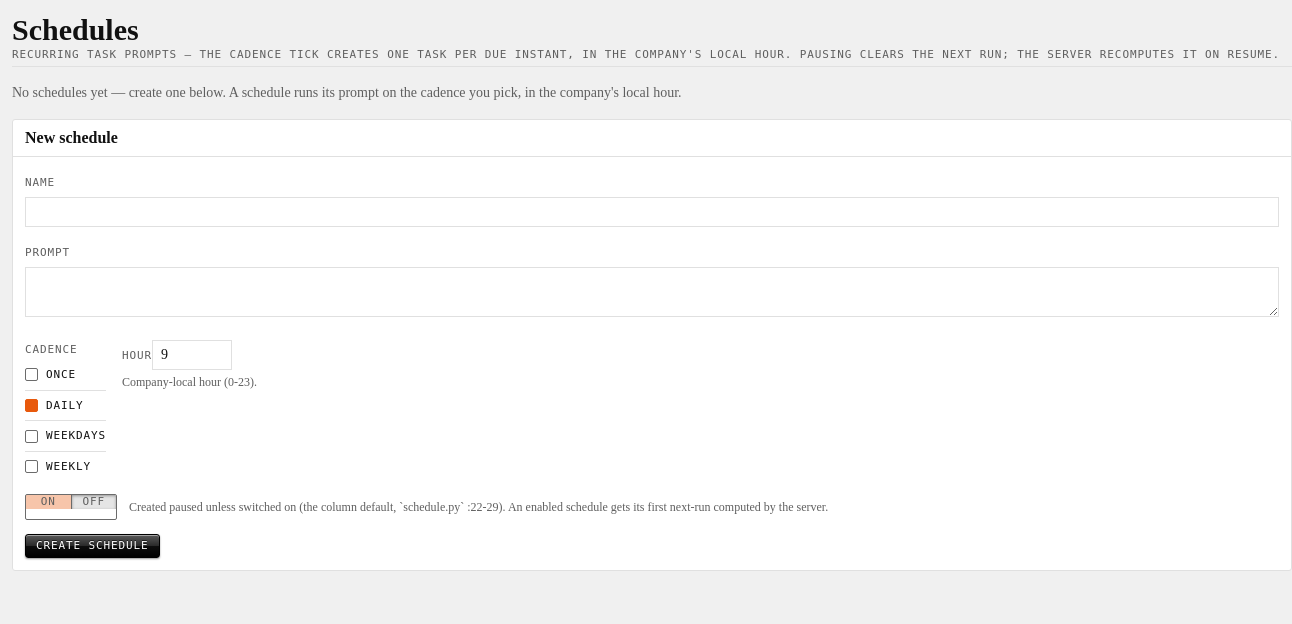
Test: SchedulesPage — create (POST /schedules) › renders a create refusal as ApiError.display — no invented schedule
Expected: the text with test id "schedules-empty" is shown, [12, 85, 682, 100]
In the field labelled "Name": (652, 212) [25, 197, 1279, 227], type "Bad hour"
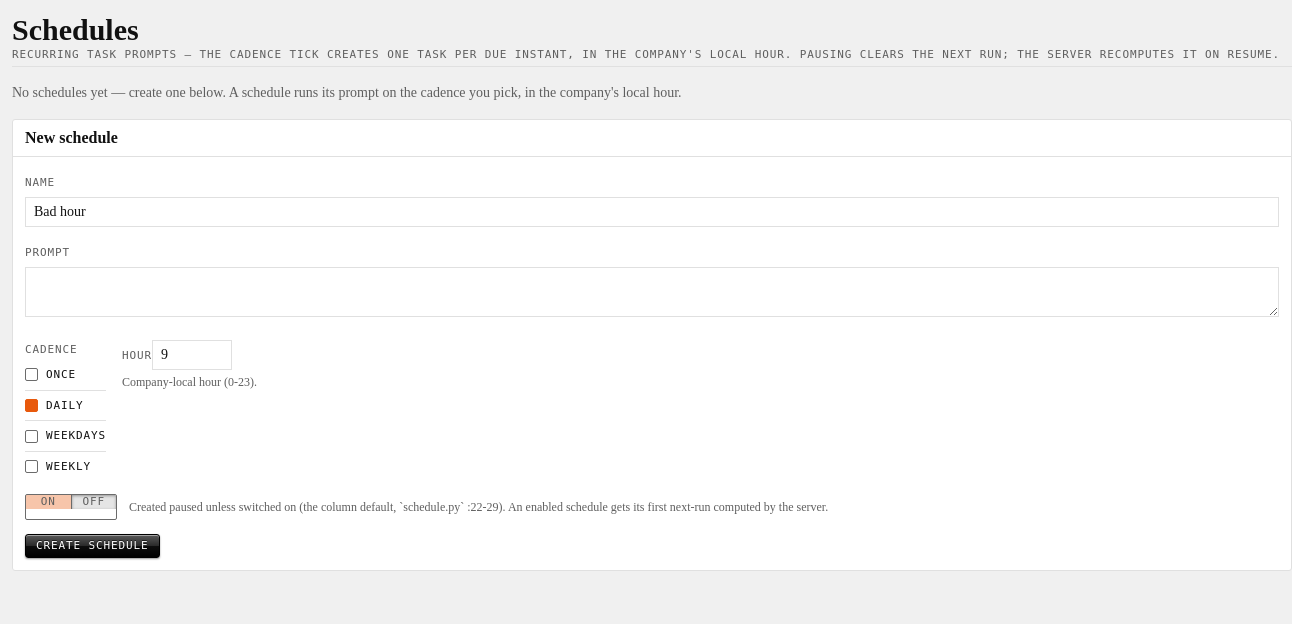
In the text box labelled "Prompt": (652, 292) [25, 267, 1279, 317], type "Never valid."
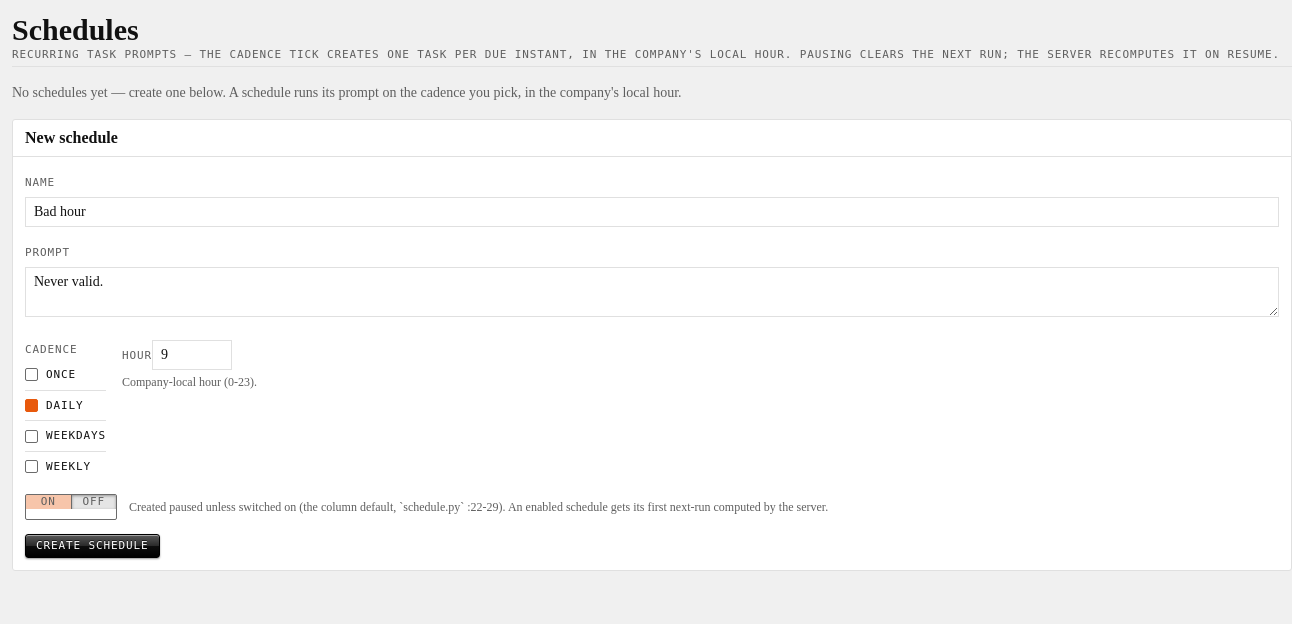
Replace the text in the number field labelled "Hour" with "25": (192, 355) [152, 340, 232, 370]
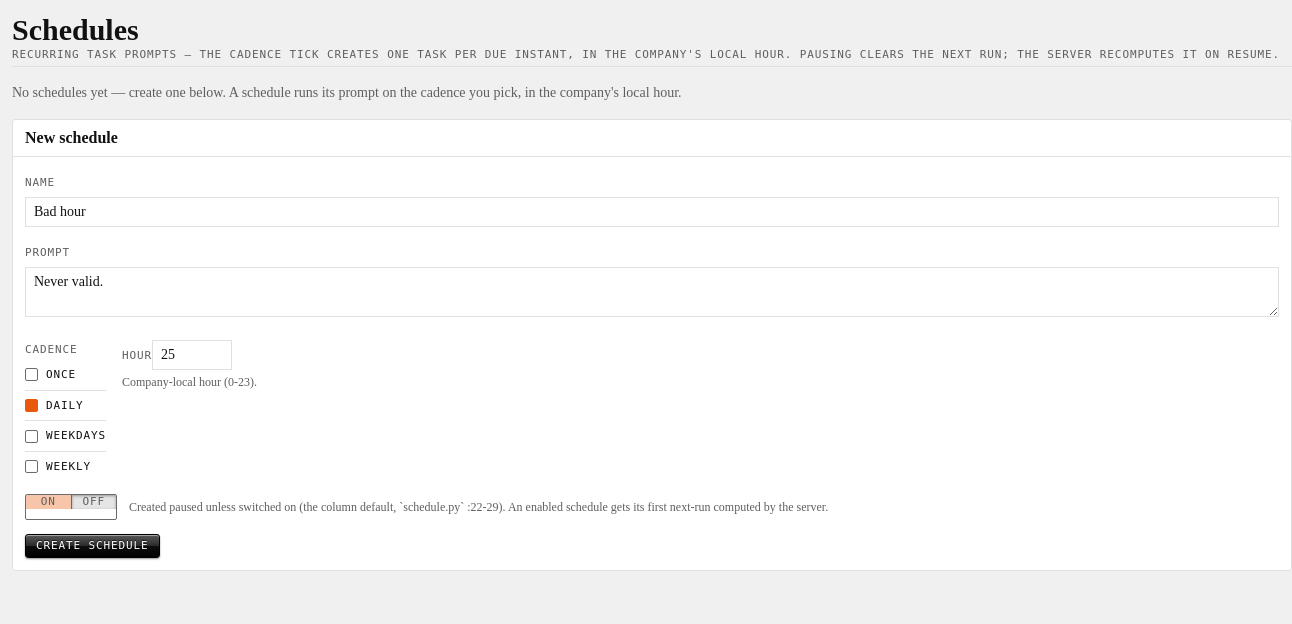
Click the button "Create schedule": (92, 546) [25, 534, 160, 558]
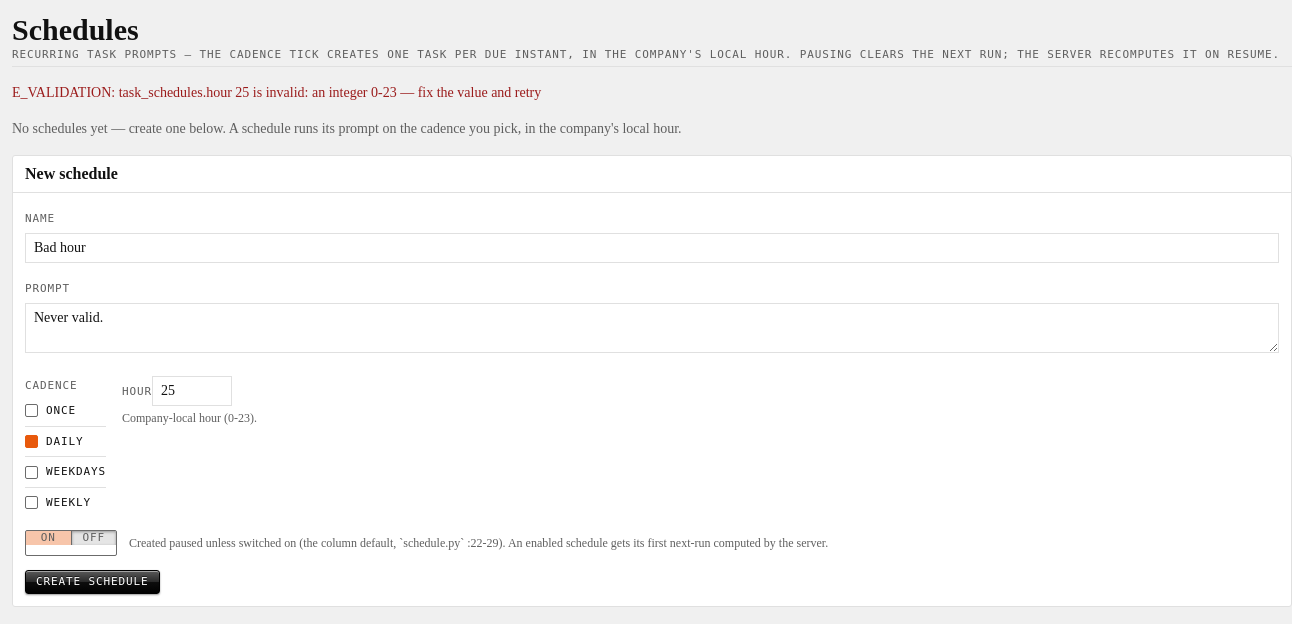
Now the message with test id "schedules-action-error" shows "E_VALIDATION: task_schedules.hour 25 is invalid: an integer 0-23 — fix the value and retry", box [12, 85, 541, 100]
